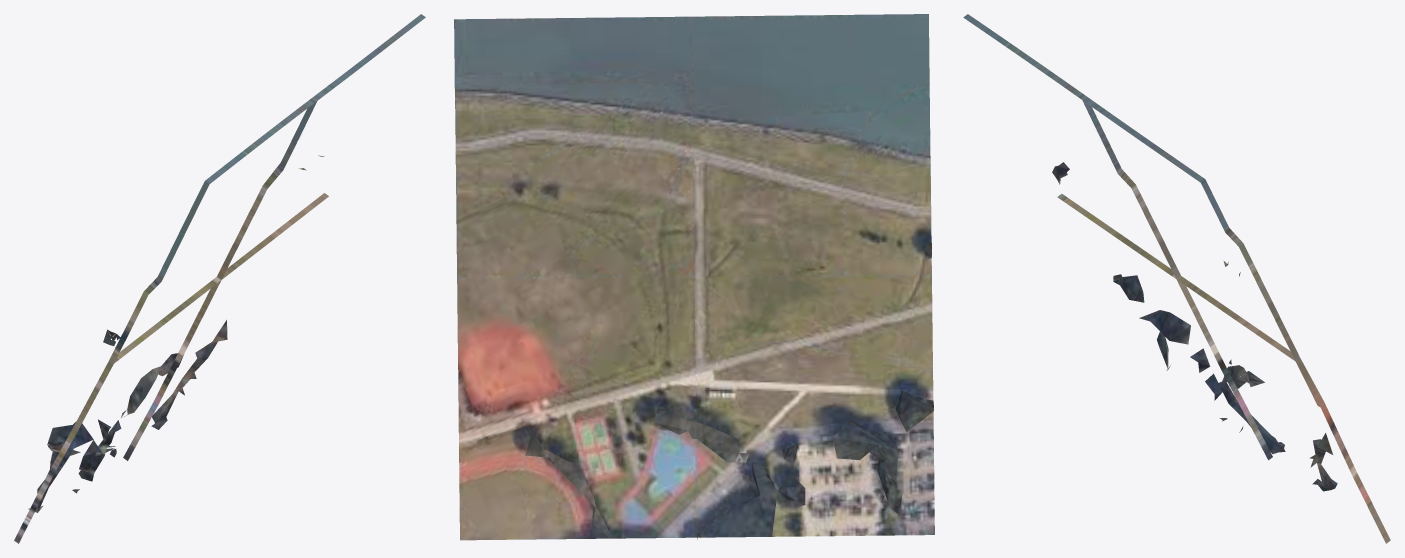
3 views of the same model, side by side, from view 1: azimuth 30°, elevation 25°; view 2: azimuth 150°, elevation 25°; view 3: azimuth 270°, elevation 25° (orthographic). The views are drawn at different scales.
Bounding box in the file's own units: 308 × 276 × 260.
Materials: 1 (1 with a texture image).
